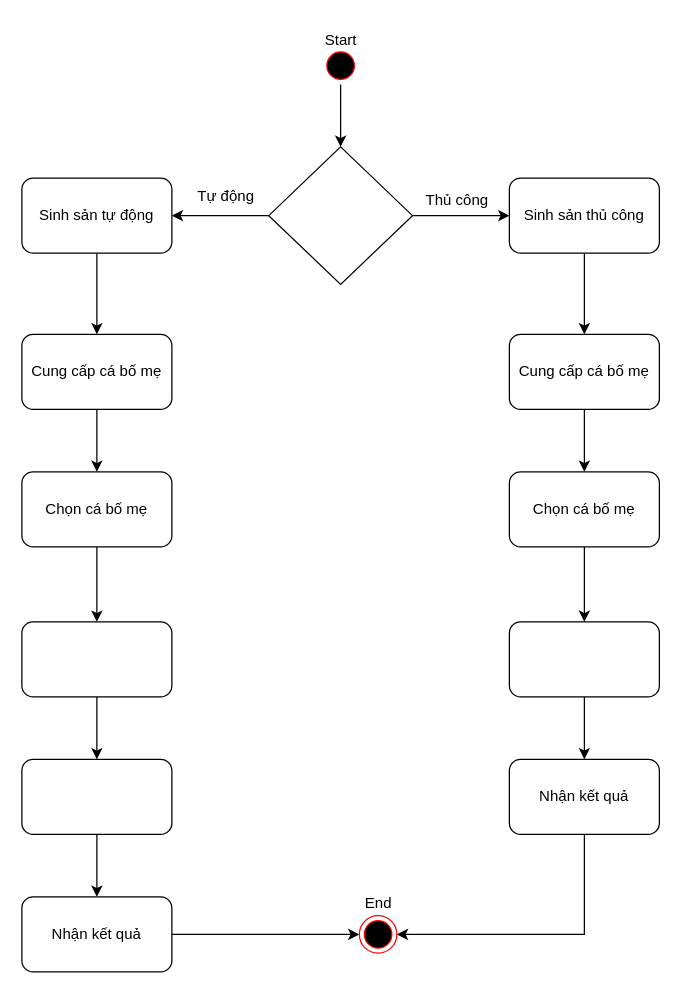
This 681x994 diagram has some shape labels left out. Each missing label, with the centre of its shape:
Decision Node: the point at 340,215
Hệ thống sinh một con: the point at 96,659
Hệ thống sinh nhiều cá cùng lúc: the point at 583,659
Lặp lại quá trình sinh sản cho từng con: the point at 96,796
